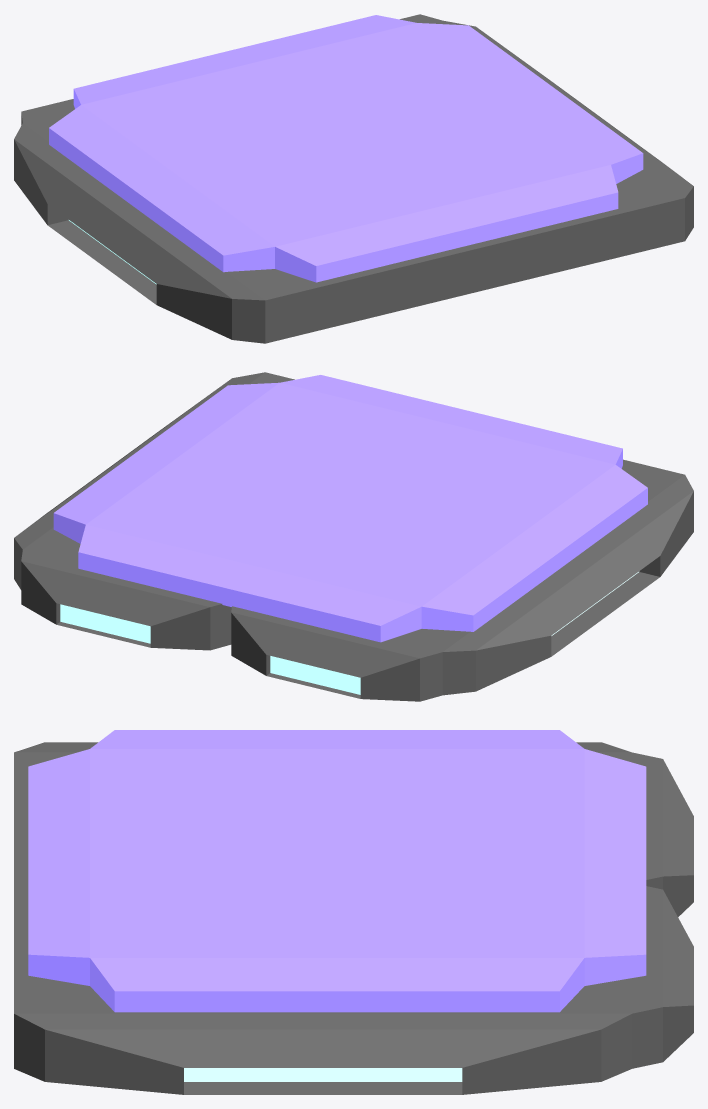
File: Button2.fbx
3 views of the same model, one above another, from view 1: azimuth 30°, elevation 25°; view 2: azimuth 150°, elevation 25°; view 3: azimuth 270°, elevation 25° (orthographic). The views are drawn at different scales.
Parts seen in each view (by area): view 1: Cube_001, Cube; view 2: Cube_001, Cube; view 3: Cube_001, Cube.
Part boxes in pixels (x1,y1,x2,y2): Cube_001: [49, 15, 643, 282]; Cube: [14, 14, 693, 343]; Cube_001: [53, 375, 647, 642]; Cube: [14, 372, 693, 701]; Cube_001: [28, 730, 646, 1012]; Cube: [14, 742, 693, 1094].
Size of the model in its own units: 2.4 by 0.2979 by 2.2.
